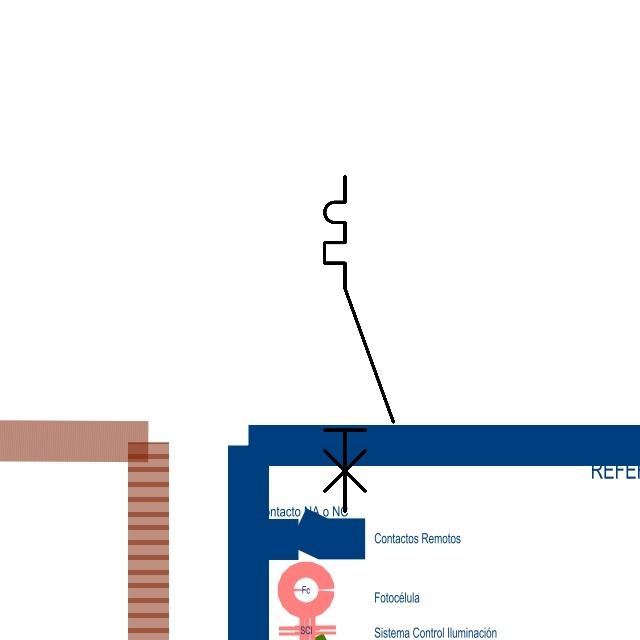interruptor_termomagnetico: (316, 168, 402, 520)
